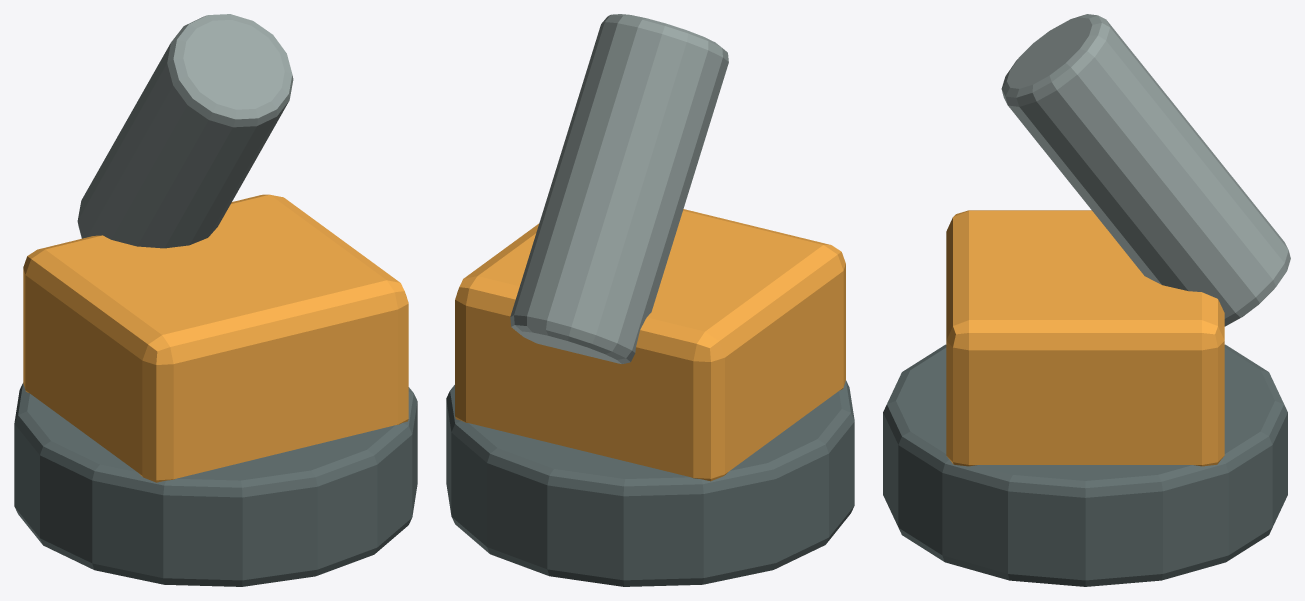
File: mortar.glb
The picture shows the model from 3 angles, left to right: view 1: azimuth 30°, elevation 25°; view 2: azimuth 150°, elevation 25°; view 3: azimuth 270°, elevation 25°; orthographic projection.
Visible parts, largest first — view 1: Mortar armor, Mortar base, Mortar barrel; view 2: Mortar armor, Mortar base, Mortar barrel; view 3: Mortar armor, Mortar base, Mortar barrel.
Part boxes in pixels (x1,y1,x2,y2): Mortar armor: (23,194,408,482); Mortar base: (14,383,417,586); Mortar barrel: (77,14,293,248); Mortar armor: (455,209,845,481); Mortar base: (446,380,854,586); Mortar barrel: (510,14,728,363); Mortar armor: (946,210,1224,466); Mortar base: (883,344,1287,586); Mortar barrel: (1001,14,1290,326).
Bounding box in the file's own units: 0.8 × 1.05 × 0.8059.
